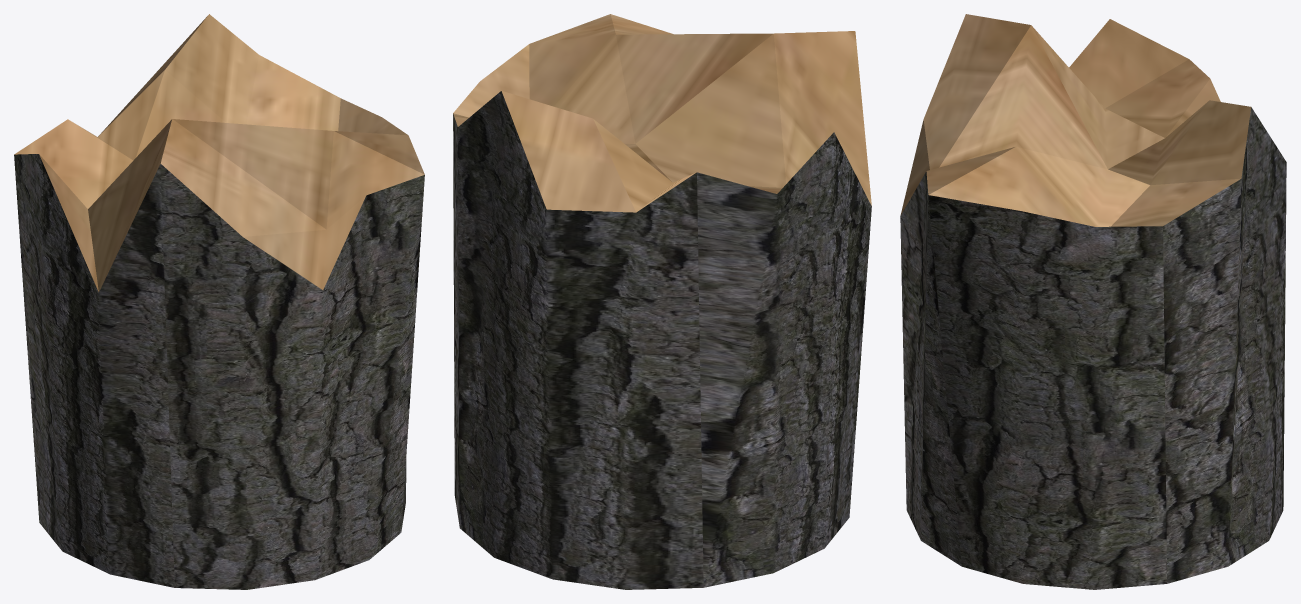
Rendered from stump.gltf.
3 renders of one model, left to right at view 1: azimuth 30°, elevation 25°; view 2: azimuth 150°, elevation 25°; view 3: azimuth 270°, elevation 25°, orthographic. The views are drawn at different scales.
Parts seen in each view (by area): view 1: Circle; view 2: Circle; view 3: Circle.
Part boxes in pixels (bbox=[...]): Circle: bbox=[14, 14, 424, 589]; Circle: bbox=[453, 14, 871, 589]; Circle: bbox=[900, 14, 1286, 589].
Size of the model in its own units: 1.05 by 1.3 by 1.03.
Materials: 2 (2 with a texture image).
